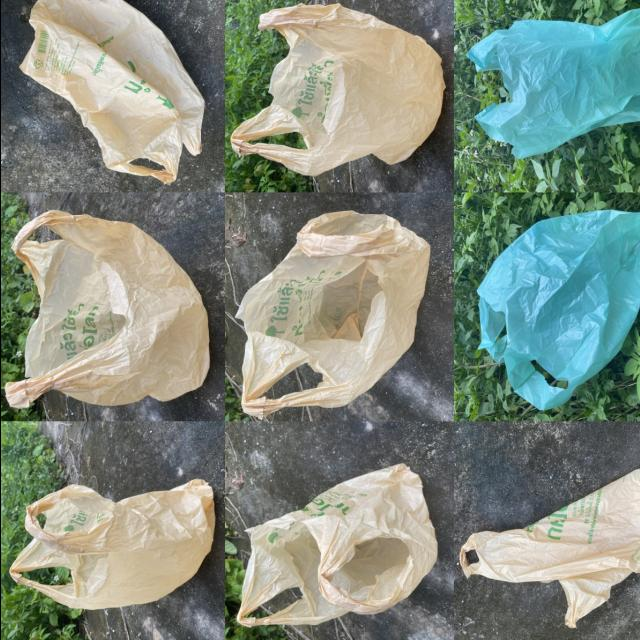plastik: (235, 210, 428, 418), (5, 210, 208, 407), (230, 4, 444, 175), (19, 0, 203, 183), (477, 210, 640, 410), (237, 464, 436, 626), (459, 468, 640, 627), (9, 480, 213, 610), (466, 9, 640, 158)
